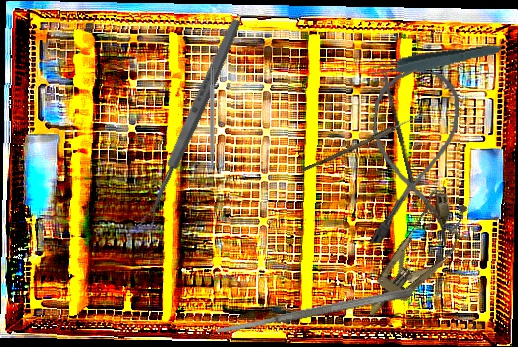Cannula: (365, 67, 462, 249)
Hook Surgical: (209, 67, 215, 183)
Spatula Surgical: (215, 287, 414, 336)
Speculum: (349, 183, 480, 332)
Surgical Spoon: (136, 15, 245, 233), (301, 109, 428, 175), (381, 67, 417, 192)
Tissue Forceps: (365, 39, 503, 81)
